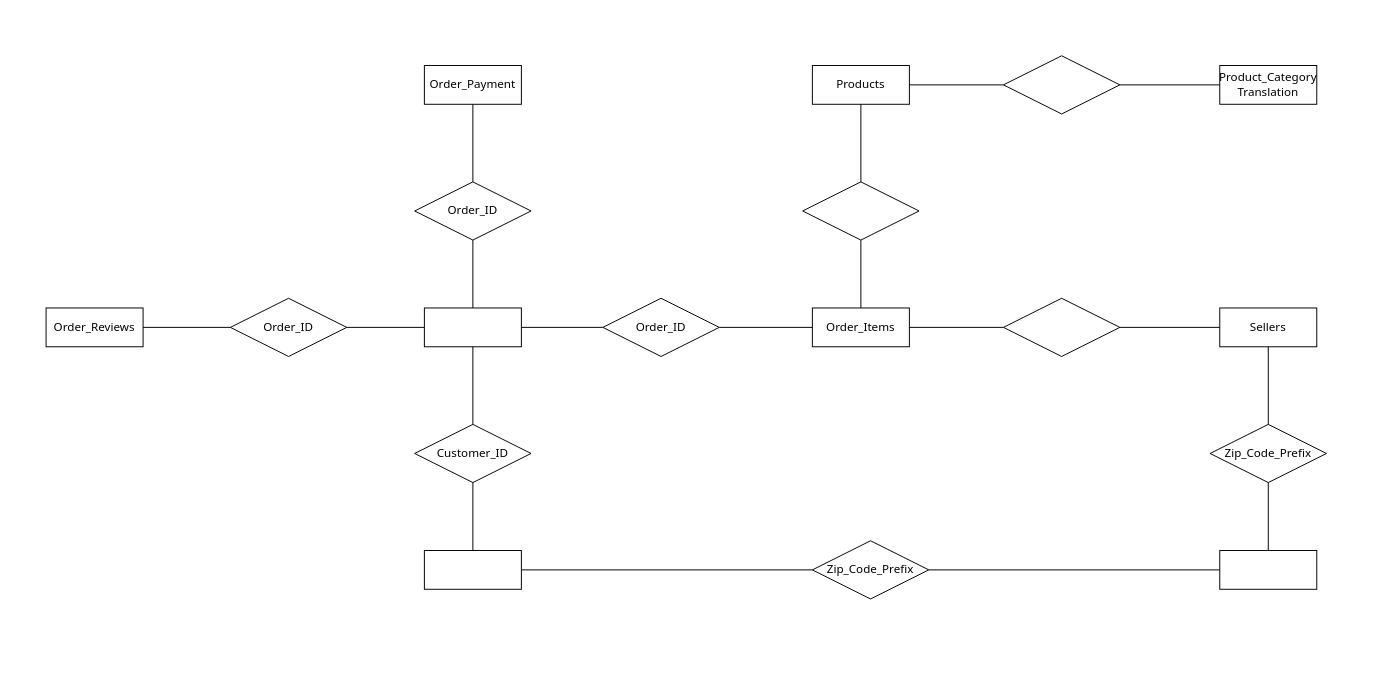
The diagram is 1381 pixels wide and 673 high, and some of its shapes have lost their labels. Each missing label, with the box of its shape:
Geolocation: (1219, 550, 1317, 589)
Order_Customer: (423, 550, 521, 589)
Orders: (423, 307, 521, 347)
Product_Category _Name: (1002, 55, 1120, 114)
Product_ID: (802, 181, 919, 240)
Seller_ID: (1002, 297, 1120, 356)
